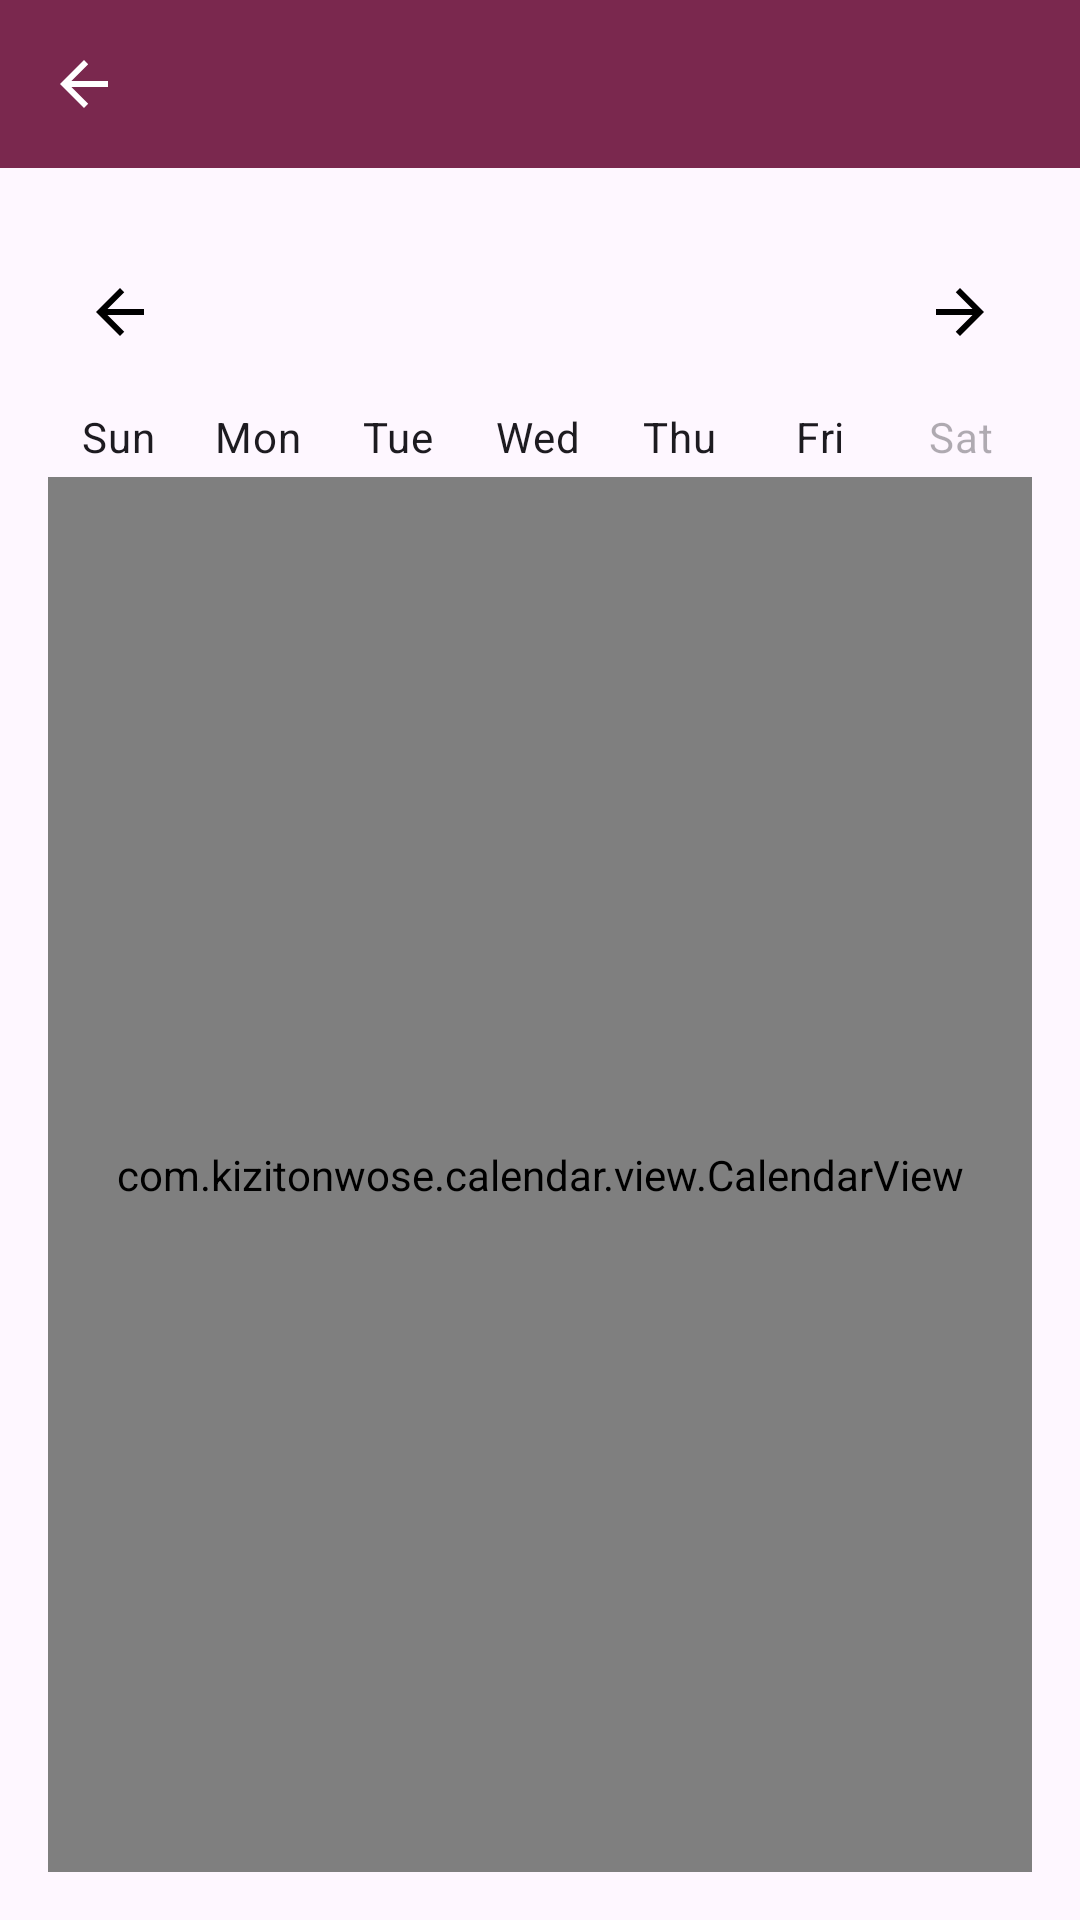

Icon bounding boxes for this 1080px x 1920px phone screenshot, format (x1, y1, x2, y2):
arrow forward: (936, 288, 984, 336)
